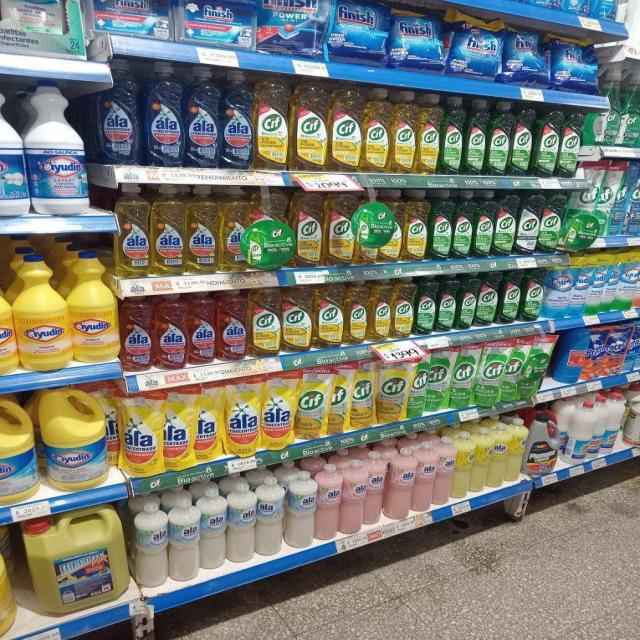ala_conc_amarillo: (114, 183, 150, 277), (151, 184, 184, 276), (186, 185, 218, 274), (219, 186, 248, 272)
ala_conc_azul: (97, 58, 141, 165), (144, 61, 183, 168), (184, 64, 220, 168), (221, 69, 253, 170)
ala_conc_rojo: (121, 292, 154, 370), (154, 292, 187, 369), (216, 288, 248, 361), (187, 290, 216, 365)
ala_crem_amarillo: (454, 430, 472, 499), (491, 422, 508, 488)
ala_crem_blanco: (133, 500, 167, 589), (169, 494, 199, 582), (227, 480, 256, 564), (286, 469, 316, 549), (200, 486, 227, 571), (256, 476, 284, 556)
ala_crem_rosado: (387, 446, 414, 521), (341, 456, 366, 535), (316, 462, 341, 540), (366, 451, 386, 527), (415, 440, 435, 512), (435, 436, 454, 506)
ala_sachet_amarillo: (120, 387, 162, 478), (224, 376, 260, 456), (163, 385, 194, 471), (262, 372, 294, 451), (195, 382, 222, 464)
cif_conc_bot_amarilla: (291, 80, 328, 172), (255, 76, 289, 170), (329, 86, 362, 172), (363, 87, 390, 173), (249, 285, 281, 357), (294, 189, 323, 267), (324, 190, 353, 266), (391, 90, 416, 174), (282, 284, 312, 352), (314, 280, 343, 348), (417, 92, 440, 174), (404, 188, 428, 262), (379, 188, 402, 264), (344, 279, 367, 345), (368, 278, 391, 341), (392, 276, 414, 338)
cif_conc_botella_verde: (441, 95, 463, 175), (464, 98, 486, 176), (488, 101, 510, 176), (512, 104, 534, 177), (535, 108, 558, 177), (430, 188, 452, 260), (540, 189, 563, 254), (494, 190, 516, 257), (452, 189, 473, 259), (517, 189, 539, 255), (559, 110, 580, 178), (474, 189, 494, 258), (415, 274, 436, 334), (477, 271, 498, 326), (499, 269, 520, 324), (521, 268, 542, 322), (437, 273, 456, 332), (457, 272, 476, 329)
cif_conc_sachet_amarillo: (296, 367, 329, 440), (378, 358, 408, 423), (352, 360, 376, 429), (328, 364, 351, 434)
cif_conc_sachet_verde: (522, 334, 551, 396), (476, 341, 502, 406), (450, 344, 474, 408), (426, 348, 449, 412), (502, 338, 521, 402), (408, 354, 426, 418)
